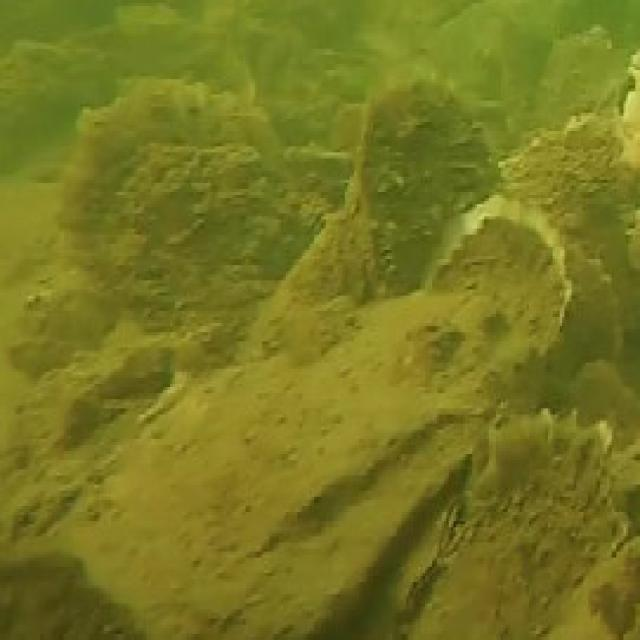Oyster-Indeterminate: (57, 290, 543, 640), (388, 411, 623, 640), (56, 76, 282, 278), (94, 147, 325, 303), (348, 74, 504, 295), (484, 121, 640, 329), (433, 198, 572, 359), (0, 550, 151, 640), (548, 249, 622, 390), (14, 287, 121, 376), (533, 33, 613, 135), (569, 367, 640, 457)
